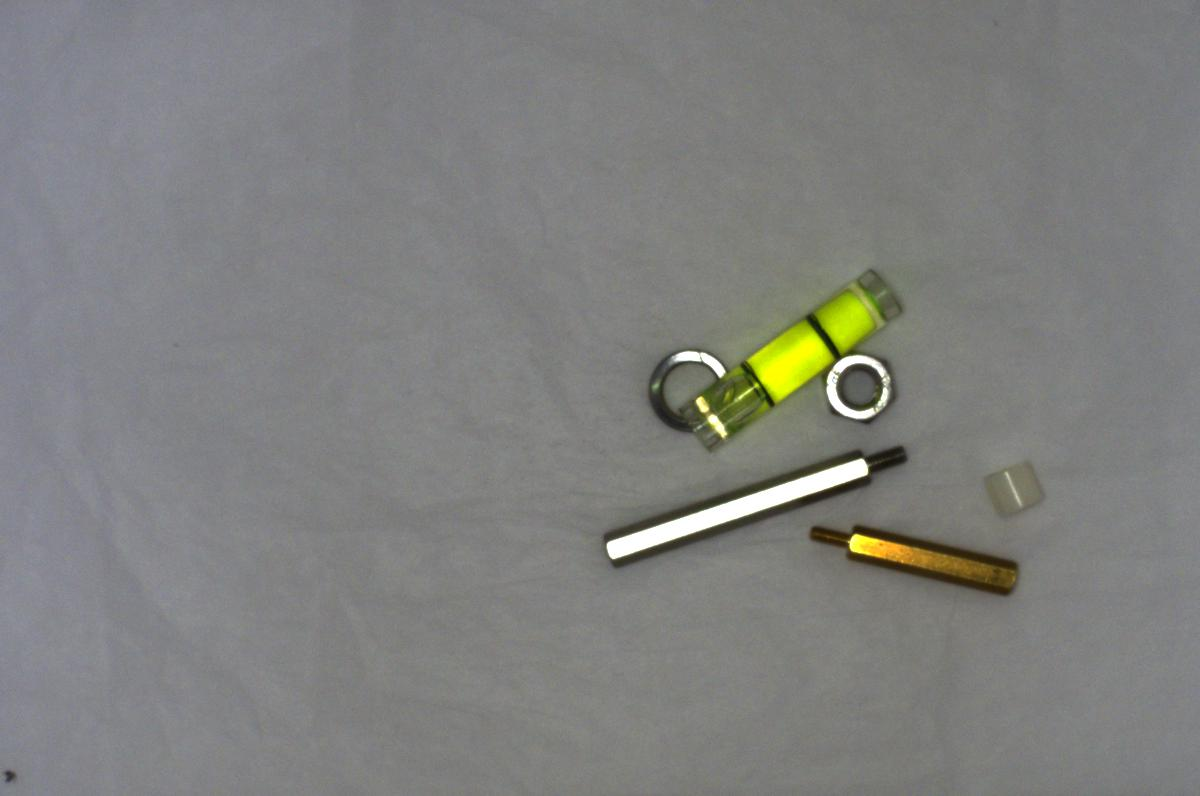Hexagon nut: (812, 350, 902, 432)
Hexagon pillar: (807, 508, 1030, 599)
Hexagonal steel column: (589, 439, 917, 565)
Horizontal bubble: (675, 264, 901, 450)
Plastic cushion pillar: (978, 450, 1051, 522)
Spring washer: (643, 344, 726, 435)
